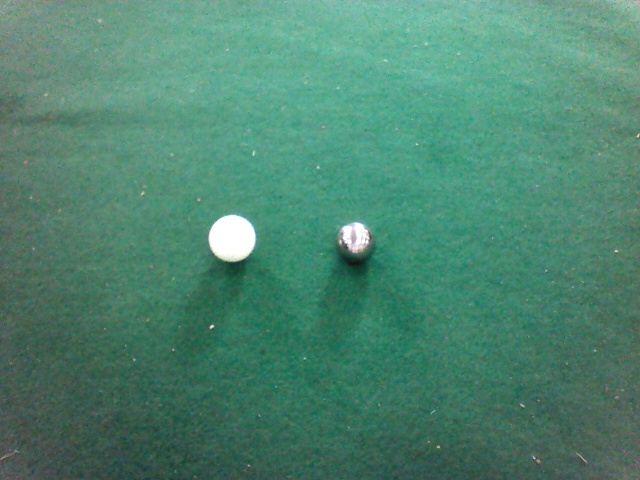ball: (68, 15, 151, 98)
